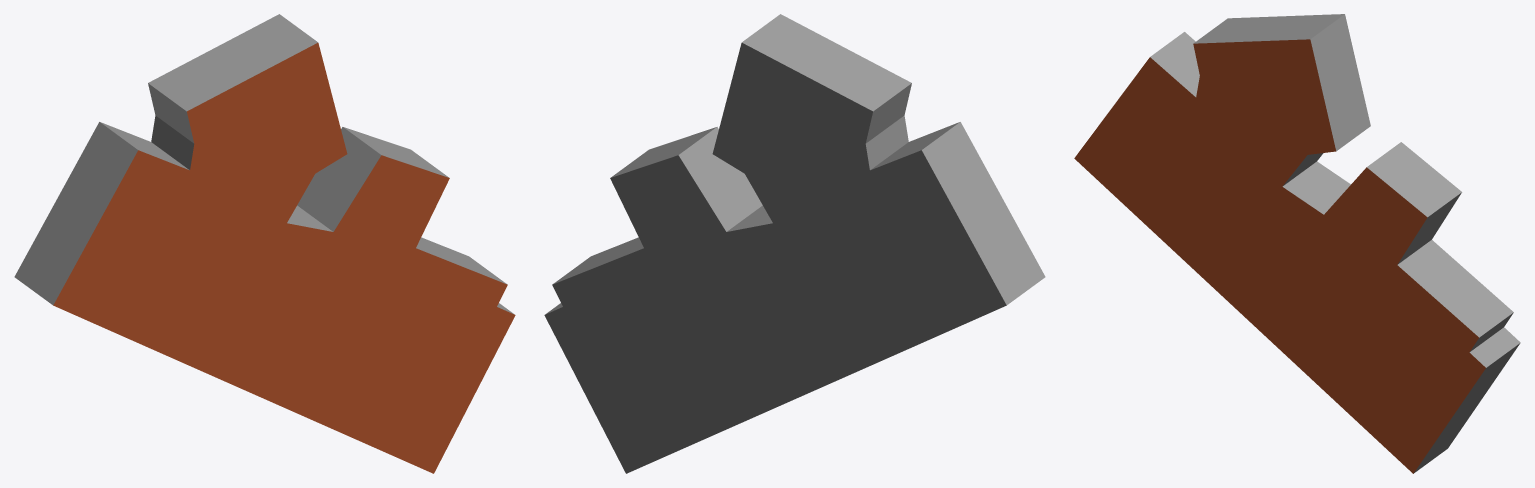
File: construction_2587_assumed_A_Casa_h6m.obj
3 renders of one model, left to right at view 1: azimuth 30°, elevation 25°; view 2: azimuth 150°, elevation 25°; view 3: azimuth 330°, elevation 25°, orthographic. The views are drawn at different scales.
Parts seen in each view (by area): view 1: construction_2587_assumed_A_Casa; view 2: construction_2587_assumed_A_Casa; view 3: construction_2587_assumed_A_Casa.
Part boxes in pixels (x1,y1,x2,y2): construction_2587_assumed_A_Casa: (14,14,515,473); construction_2587_assumed_A_Casa: (544,14,1045,473); construction_2587_assumed_A_Casa: (1074,14,1520,473).
Bounding box in the file's own units: 41.2 × 39.13 × 6.
